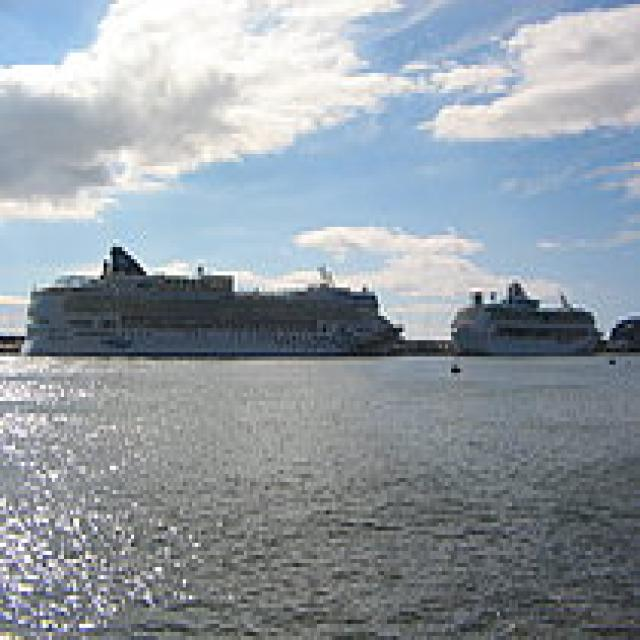Cruise: (18, 235, 406, 356), (442, 276, 600, 348)
